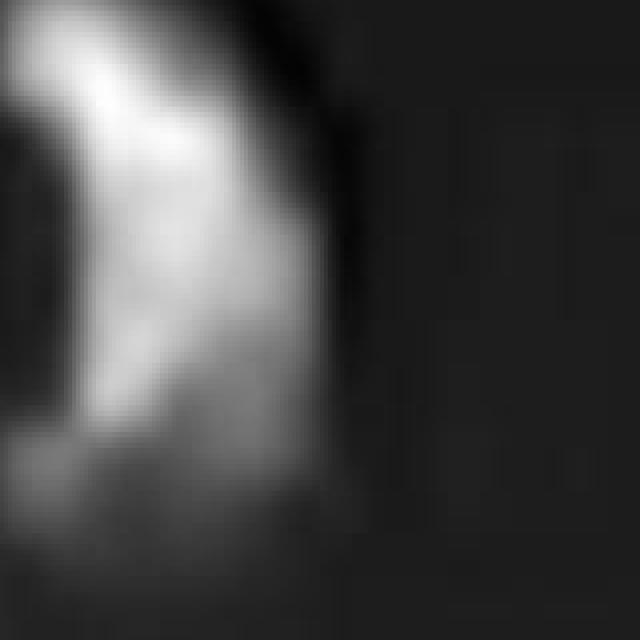person: (1, 1, 341, 556)
